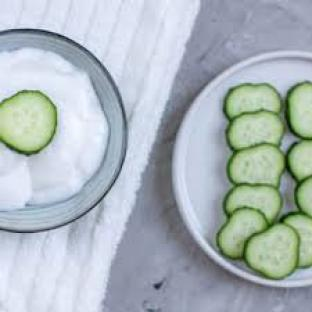Cucumber: (0, 91, 56, 155), (245, 224, 299, 278), (217, 208, 267, 259), (228, 145, 285, 187), (224, 185, 282, 223), (227, 111, 284, 149), (225, 84, 281, 119), (283, 213, 311, 267), (286, 82, 311, 138), (288, 141, 311, 181), (296, 177, 311, 216)
